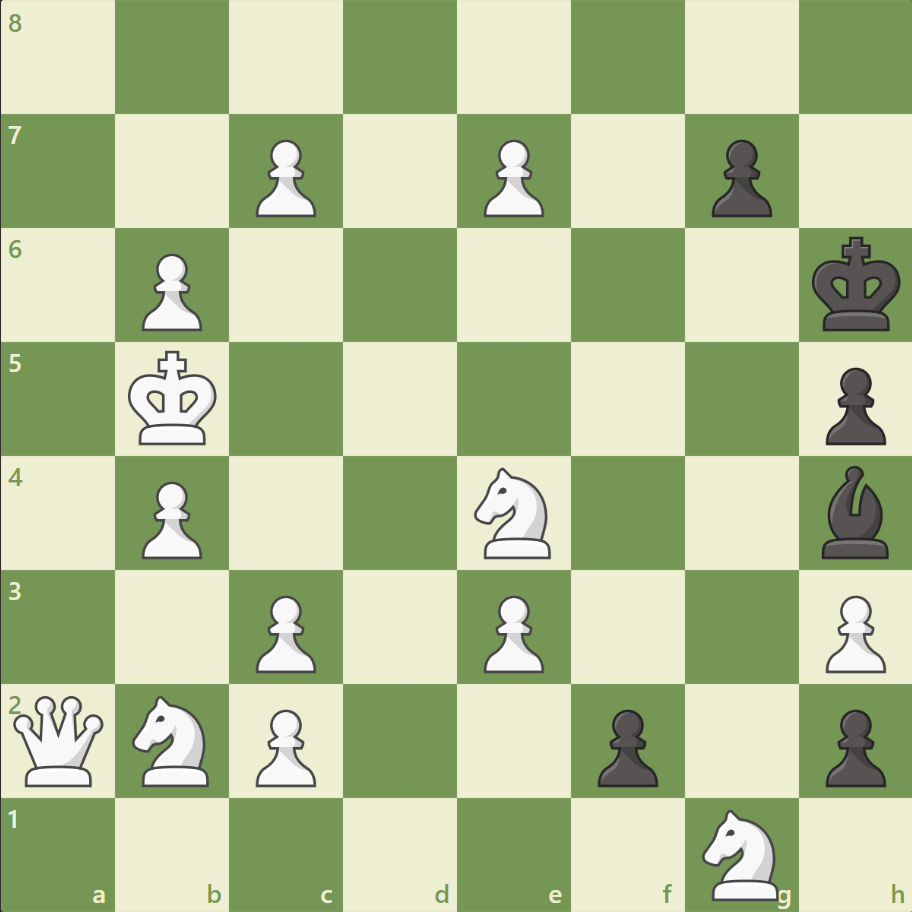K: (124, 344, 224, 452)
N: (124, 688, 222, 791), (465, 461, 562, 564), (692, 802, 789, 904)
P: (247, 132, 322, 223), (474, 132, 549, 223), (133, 246, 208, 337), (133, 473, 208, 564), (247, 586, 322, 677), (474, 586, 549, 677), (247, 700, 322, 791), (815, 586, 889, 677)
Q: (10, 690, 109, 789)
b: (812, 460, 896, 563)
k: (806, 231, 906, 339)
p: (701, 132, 776, 223), (815, 359, 889, 450), (588, 700, 662, 791), (815, 700, 889, 791)
